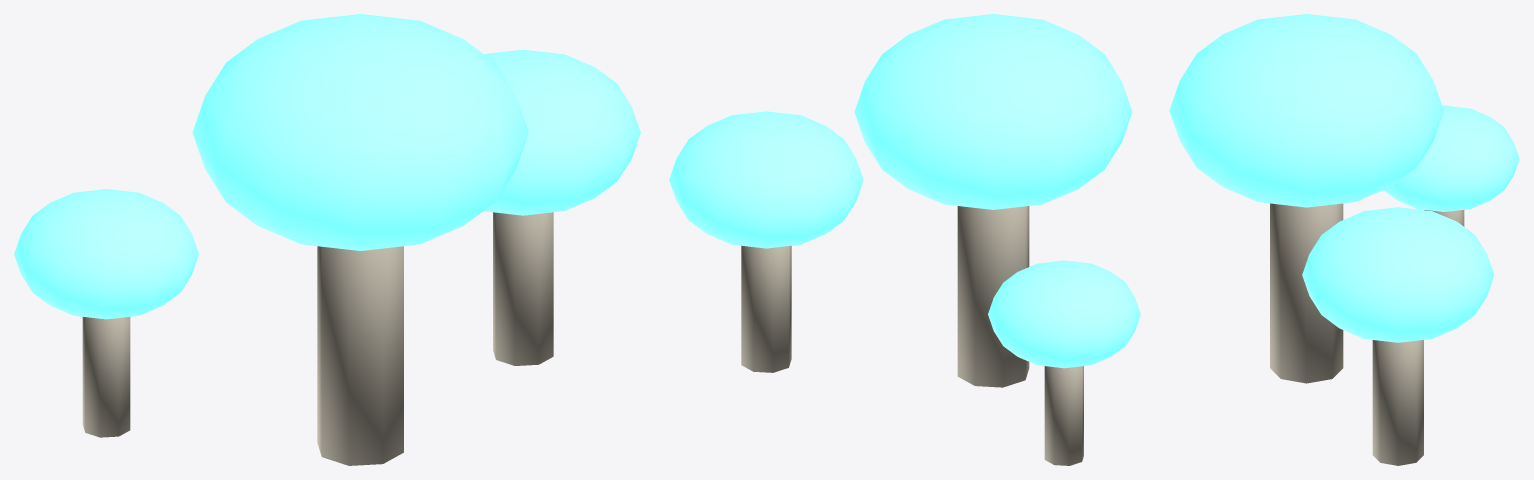
File: mushroom.glb
3 renders of one model, left to right at view 1: azimuth 30°, elevation 25°; view 2: azimuth 150°, elevation 25°; view 3: azimuth 270°, elevation 25°, orthographic. The views are drawn at different scales.
Visible parts, largest first — view 1: mushroom; view 2: mushroom; view 3: mushroom.
Boxes of the visible parts, x1,y1,x2,y2 form: mushroom: [14, 14, 640, 465]; mushroom: [669, 14, 1140, 465]; mushroom: [1169, 14, 1519, 465].
Size of the model in its own units: 1.17 by 0.81 by 0.765.
